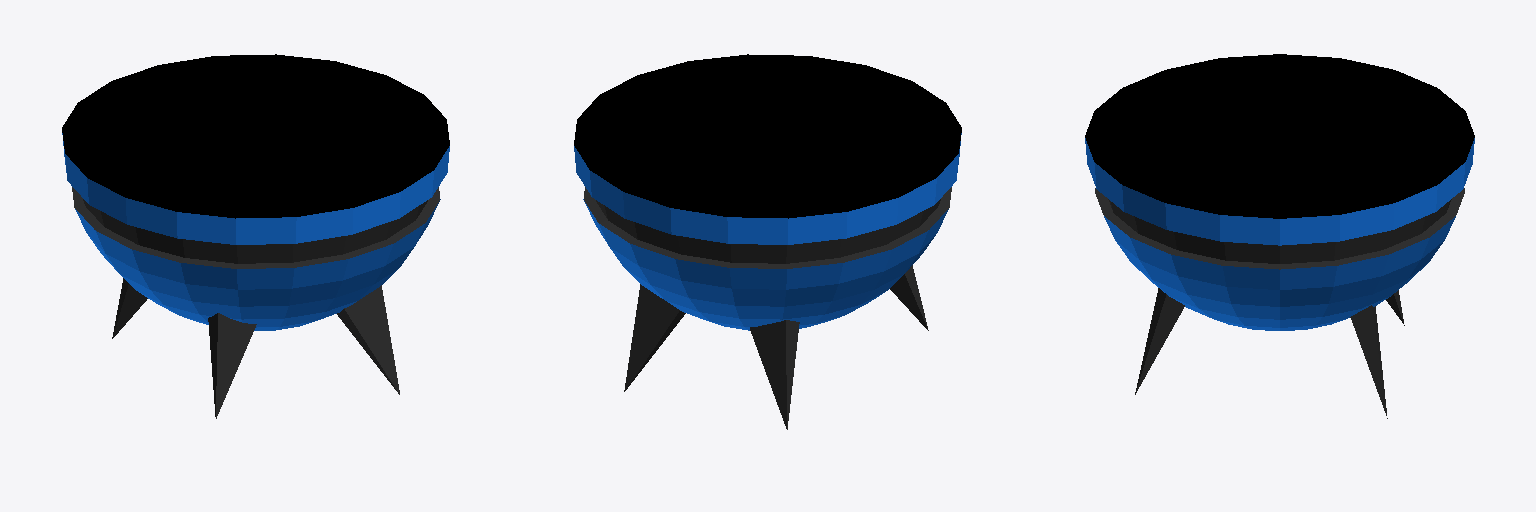
The picture shows the model from 3 angles: view 1: azimuth 30°, elevation 25°; view 2: azimuth 150°, elevation 25°; view 3: azimuth 270°, elevation 25°; orthographic projection.
Parts seen in each view (by area): view 1: pSphere1, pCube4, pCube1, pCube3; view 2: pSphere1, pCube3, pCube2, pCube1; view 3: pSphere1, pCube4, pCube2.
Part boxes in pixels (x1,y1,x2,y2): pSphere1: (62, 54, 449, 330); pCube4: (337, 285, 399, 394); pCube1: (208, 313, 256, 418); pCube3: (112, 278, 147, 338); pSphere1: (574, 54, 961, 330); pCube3: (750, 320, 799, 429); pCube2: (624, 284, 685, 391); pCube1: (890, 265, 928, 330); pSphere1: (1085, 54, 1474, 330); pCube4: (1135, 288, 1184, 394); pCube2: (1350, 305, 1387, 418).
Size of the model in its own units: 2 by 1.35 by 2.
3 materials, 2 textured.